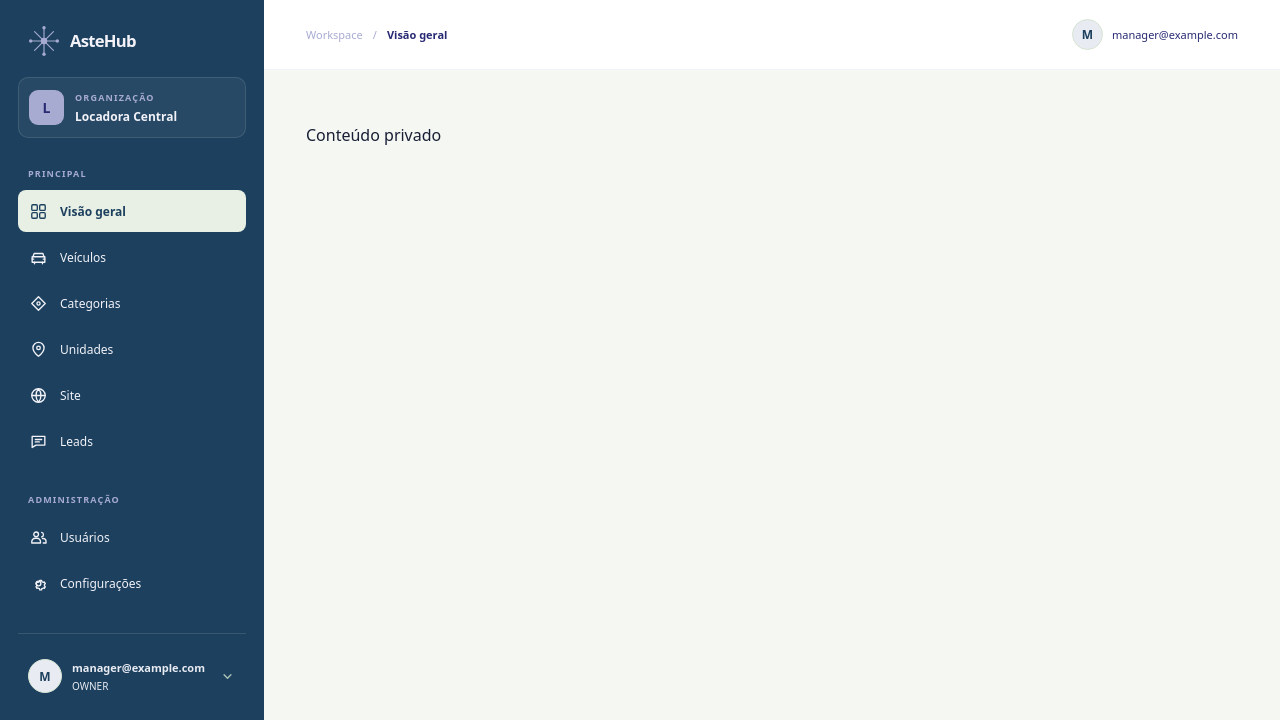
dashboard shell › closes the account dropdown with Escape and restores focus
Click the button with aria-label "Ações da conta de manager@example.com" at (132, 676), box [20,650,244,702]
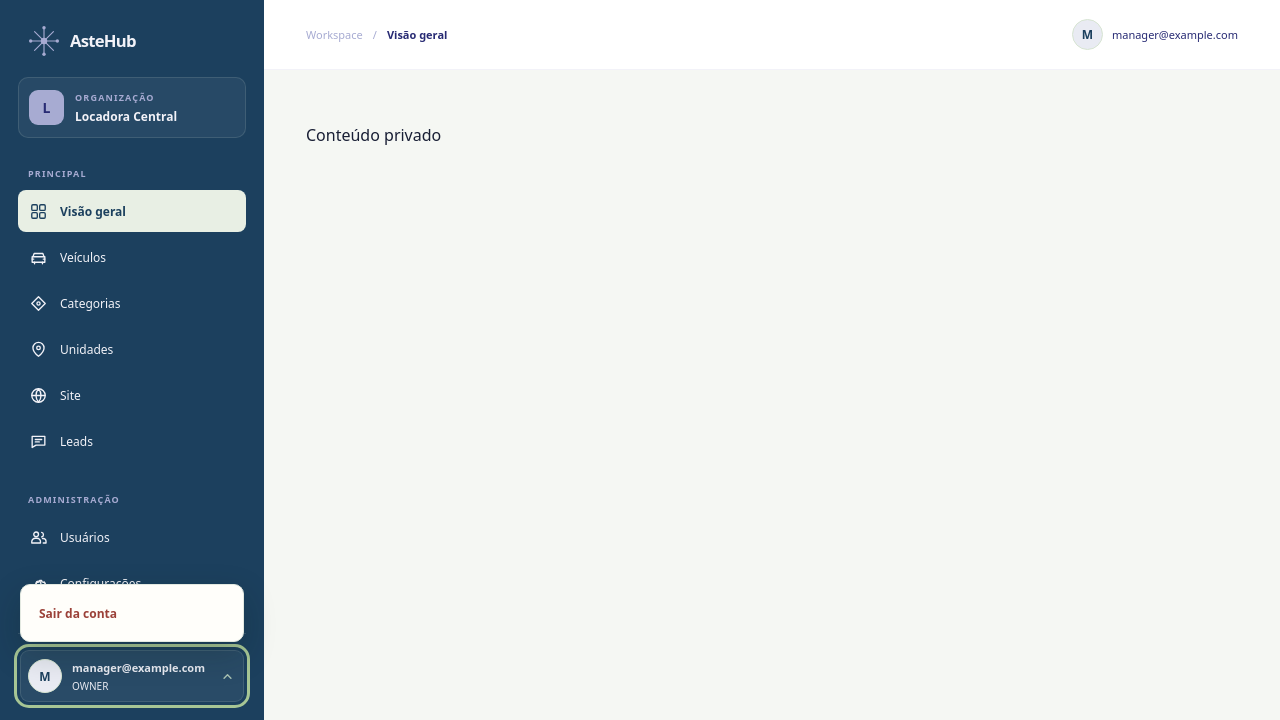
Check: the button "Sair da conta" is shown, box [29,593,235,633]
Press Escape
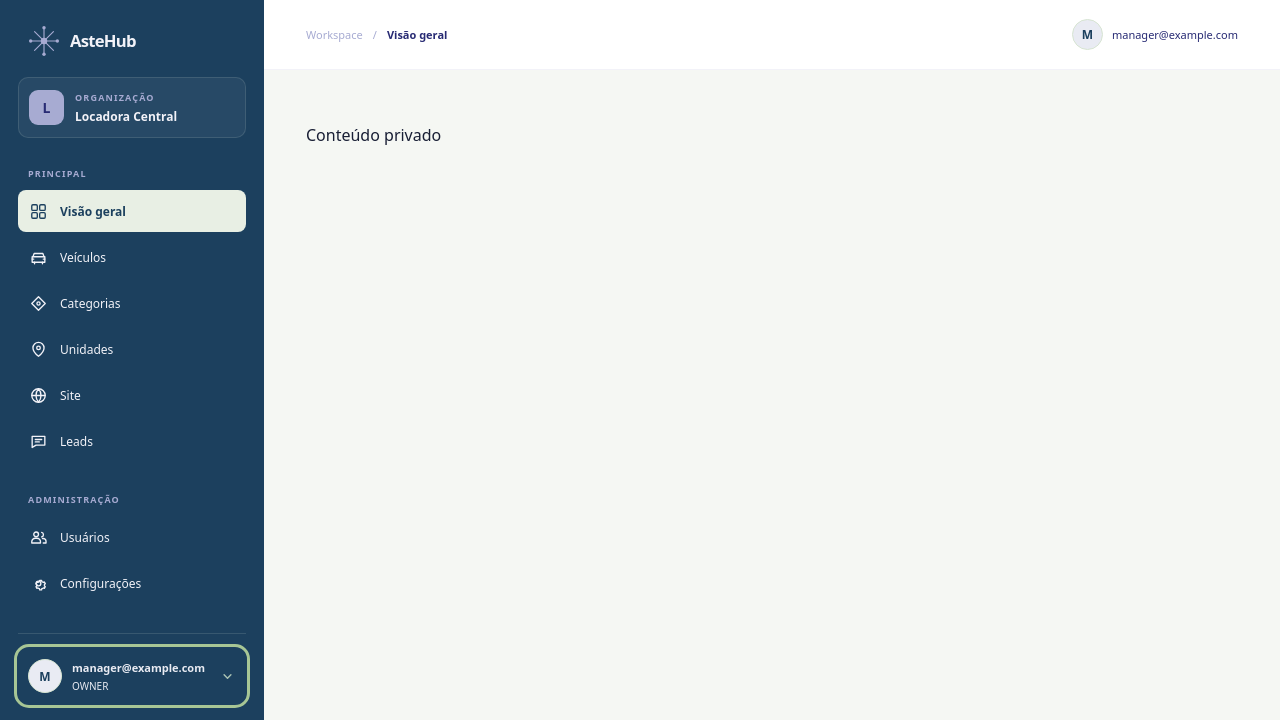
Check: the button with aria-label "Ações da conta de manager@example.com" is collapsed, box [20,650,244,702]
Check: the button "Sair da conta" is gone
